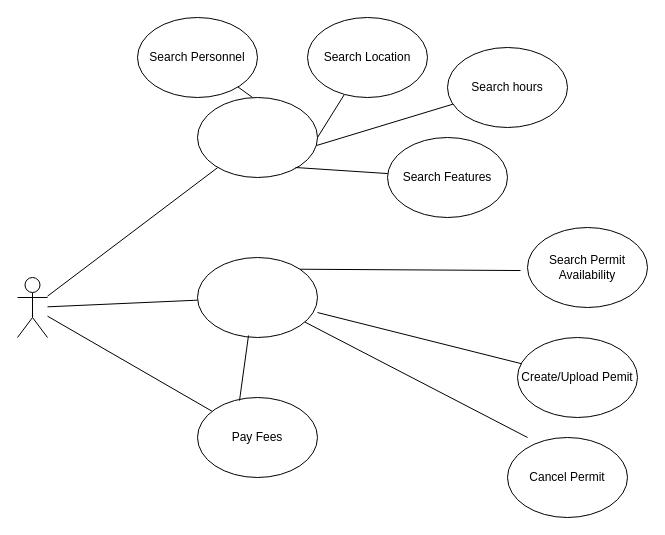
The diagram is 665 pixels wide and 535 high, and some of its shapes have lost their labels. Each missing label, with the centre of its shape:
Research Park: pixel 257 137
Reservation Functions: pixel 257 297
User: pixel 32 307
